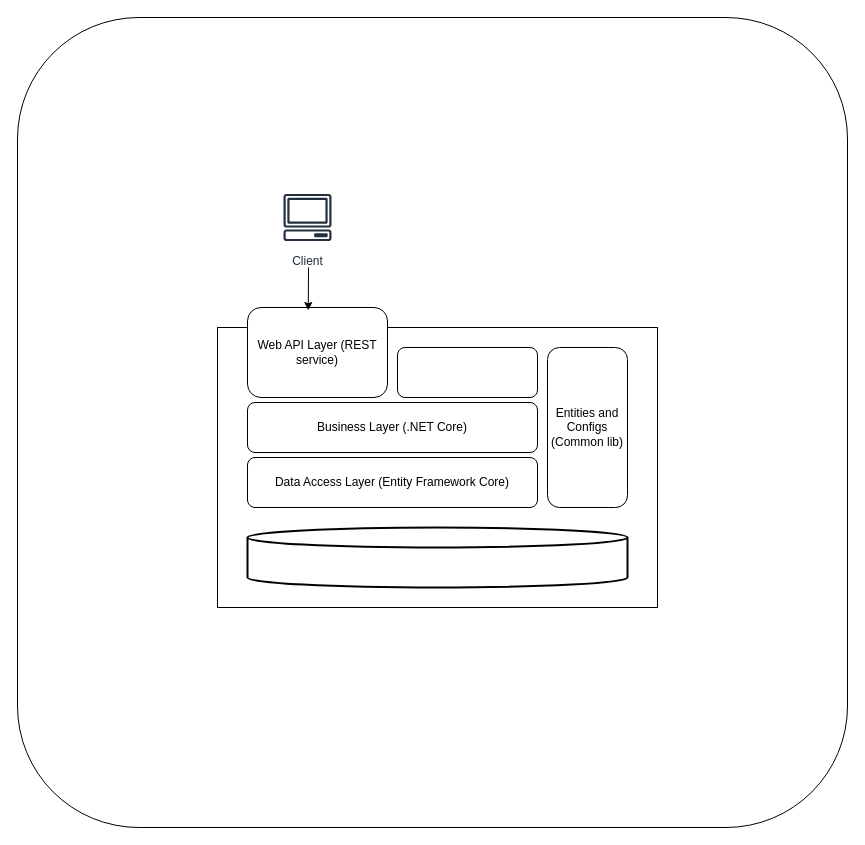
Some shapes in this 865 by 845 pixel diagram are drawn without their labels. The centre of each missing label's shape, as x and y in pixels:
"Job to calculate reward (Console App)" goes at point 467,372.
"Retail reward system Database" goes at point 437,557.
